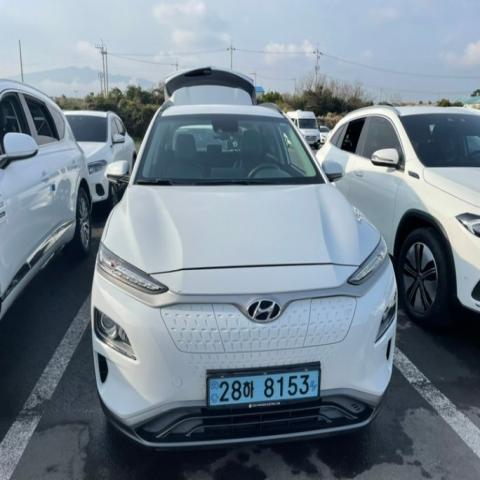LP: (200, 354, 330, 416)
